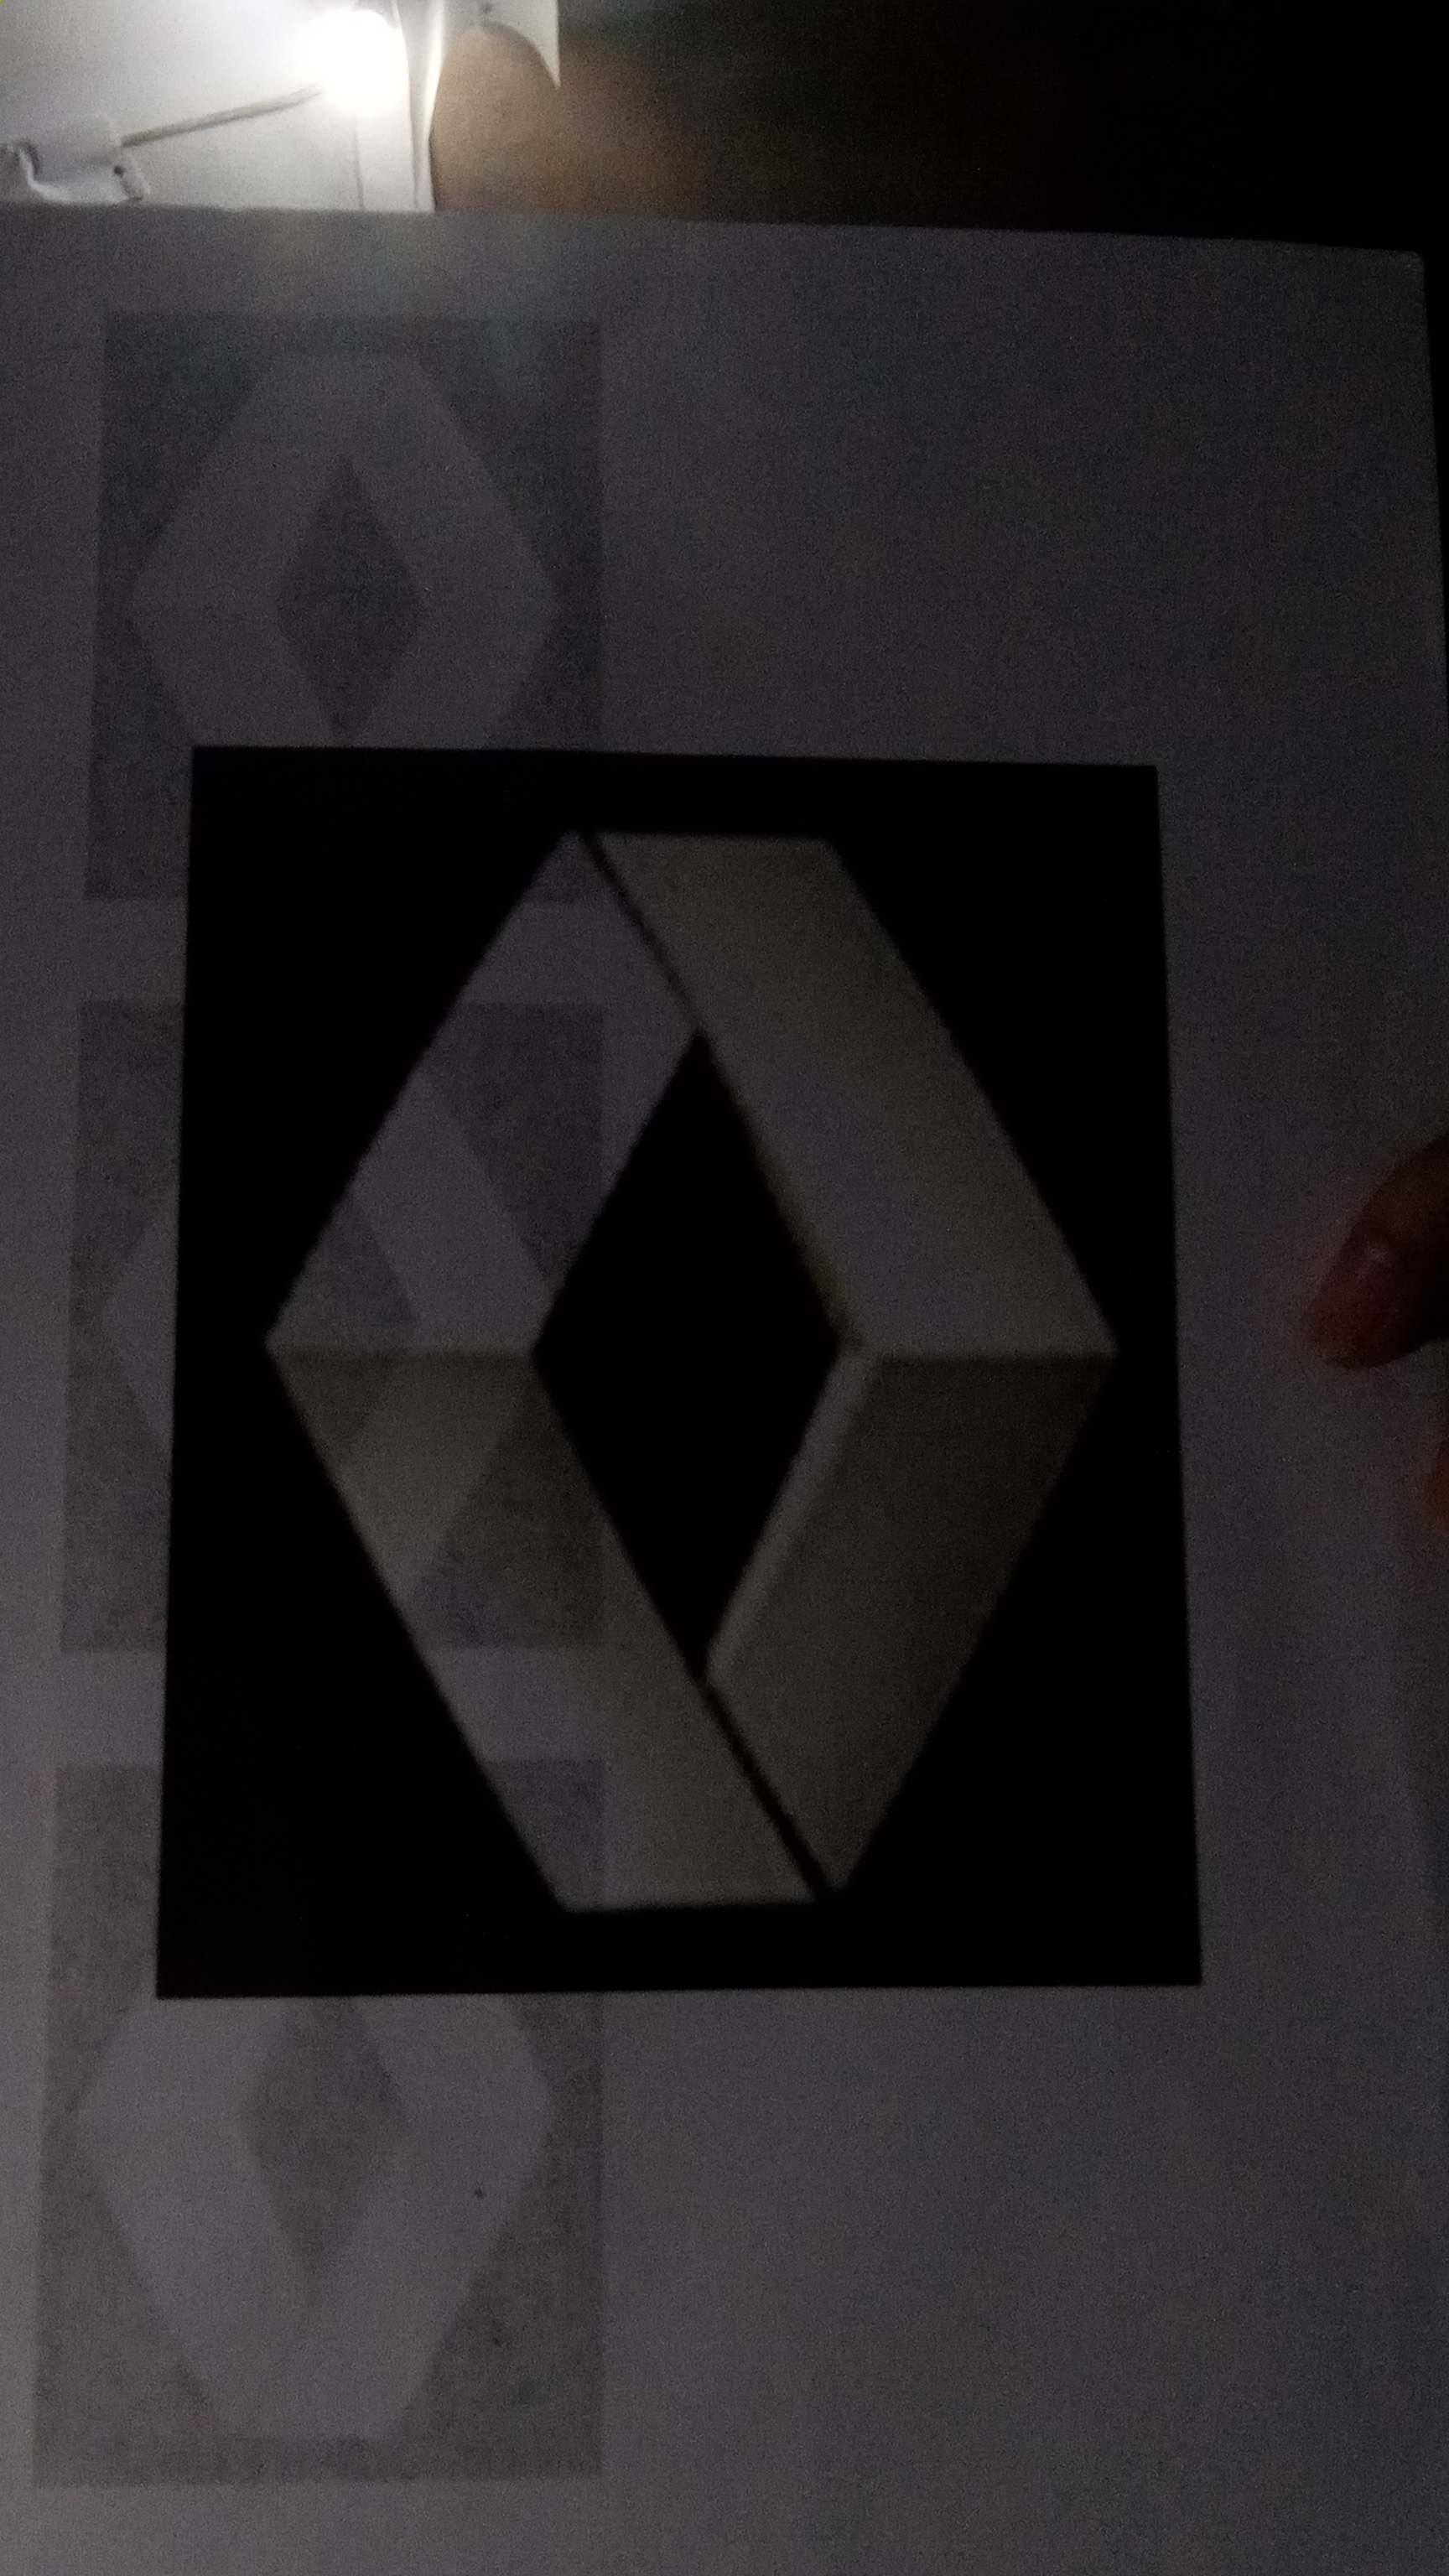Renault: (218, 771, 1155, 1944)
